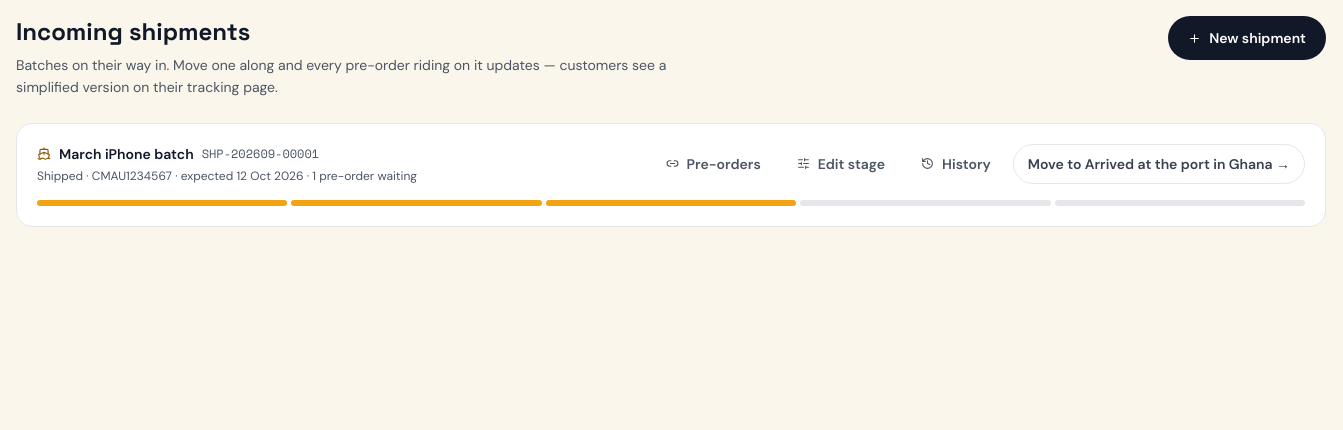
Shipments — the batch's own history › lists each stage with its note and who recorded it
Click the button "History" at (956, 164), box 907,145 -> 1005,183
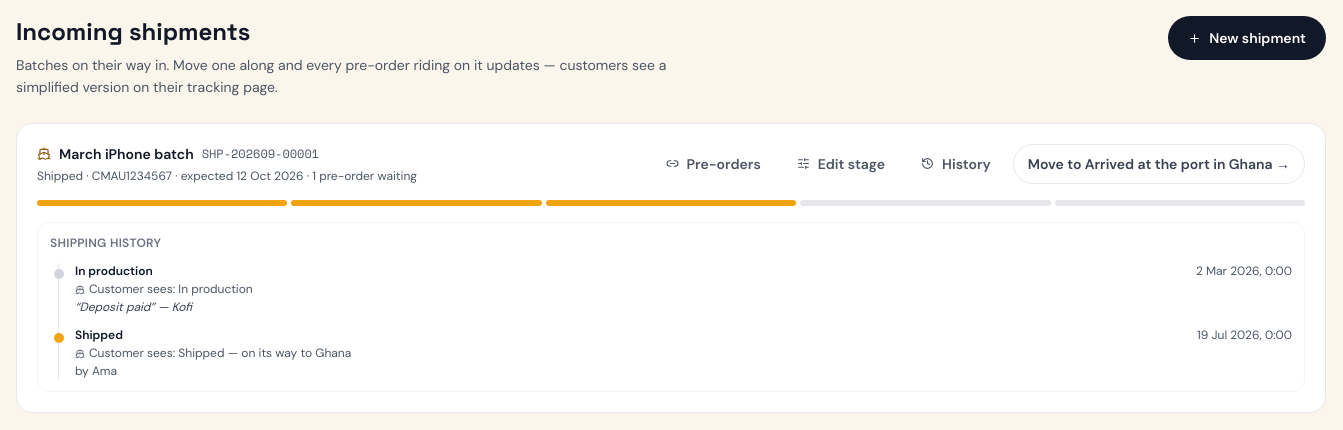
Expected: the text "In production" is shown, 75,263 -> 153,279
Expected: the text "“Deposit paid” — Kofi" is shown, 75,299 -> 192,315
Expected: the text "by Ama" is shown, 75,363 -> 117,379
